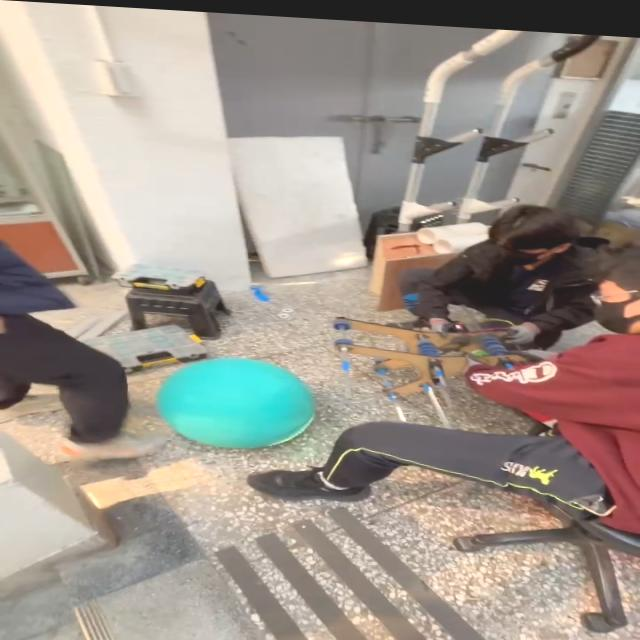ALGAE: (154, 351, 316, 455)
